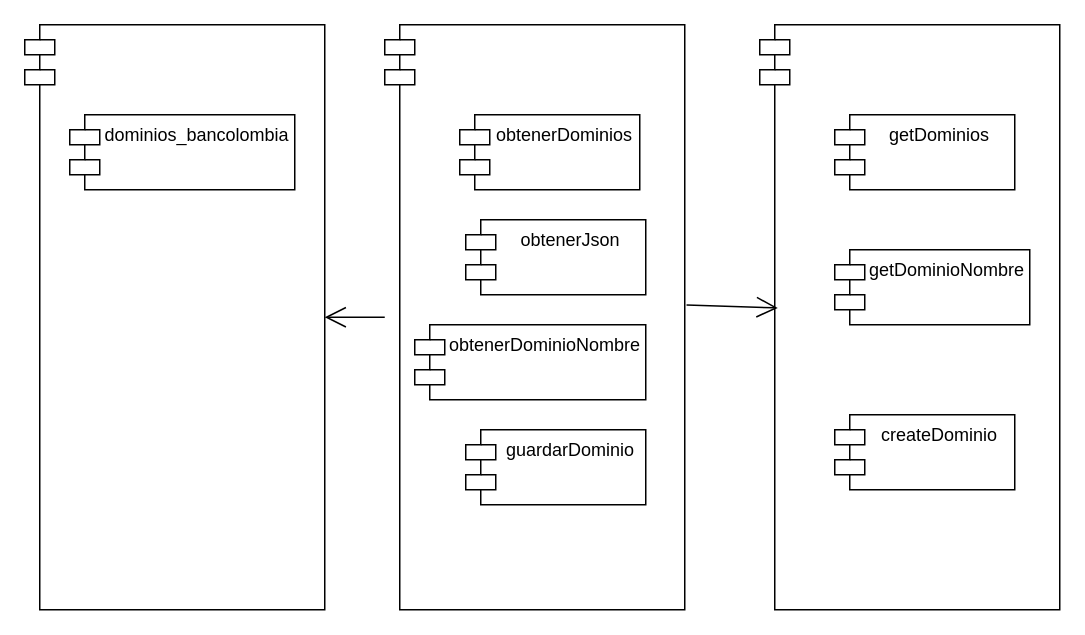
The diagram is 1085 pixels wide and 635 high, and some of its shapes have lost their labels. Each missing label, with the box of its shape:
AppiDetector: (383, 23, 685, 610)
BD: (23, 23, 325, 610)
ClienteDetector: (758, 23, 1060, 610)
